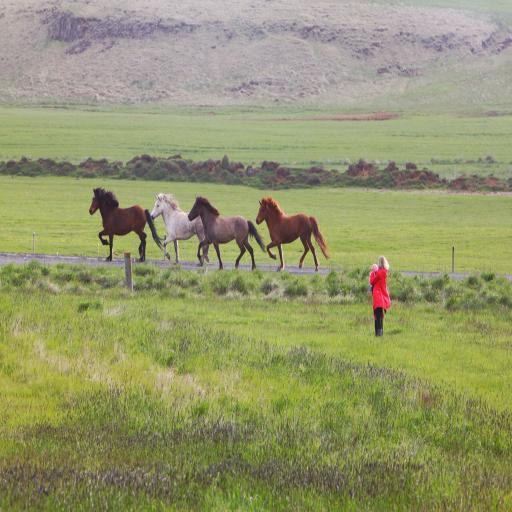horse: (188, 194, 268, 271), (90, 186, 166, 261), (254, 197, 329, 271), (151, 192, 211, 265)
